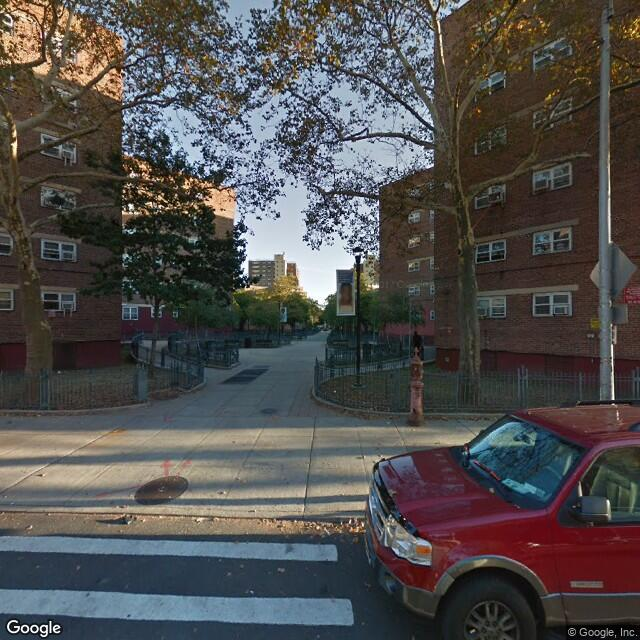litter: (119, 513, 137, 524), (57, 369, 63, 374), (332, 388, 338, 393)
